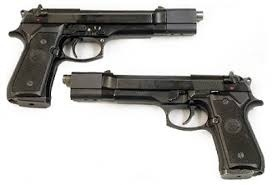pistol: (64, 71, 268, 181), (9, 5, 208, 87)
